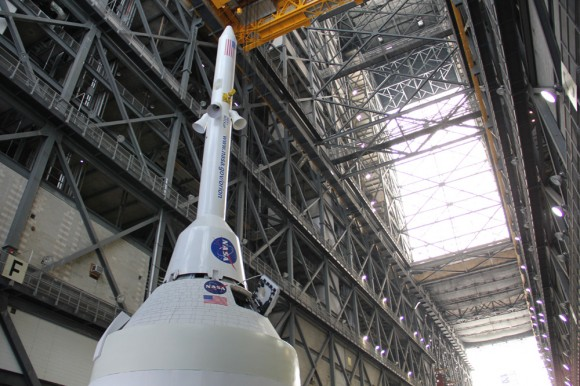NASA: (208, 234, 239, 271), (201, 275, 230, 296)
